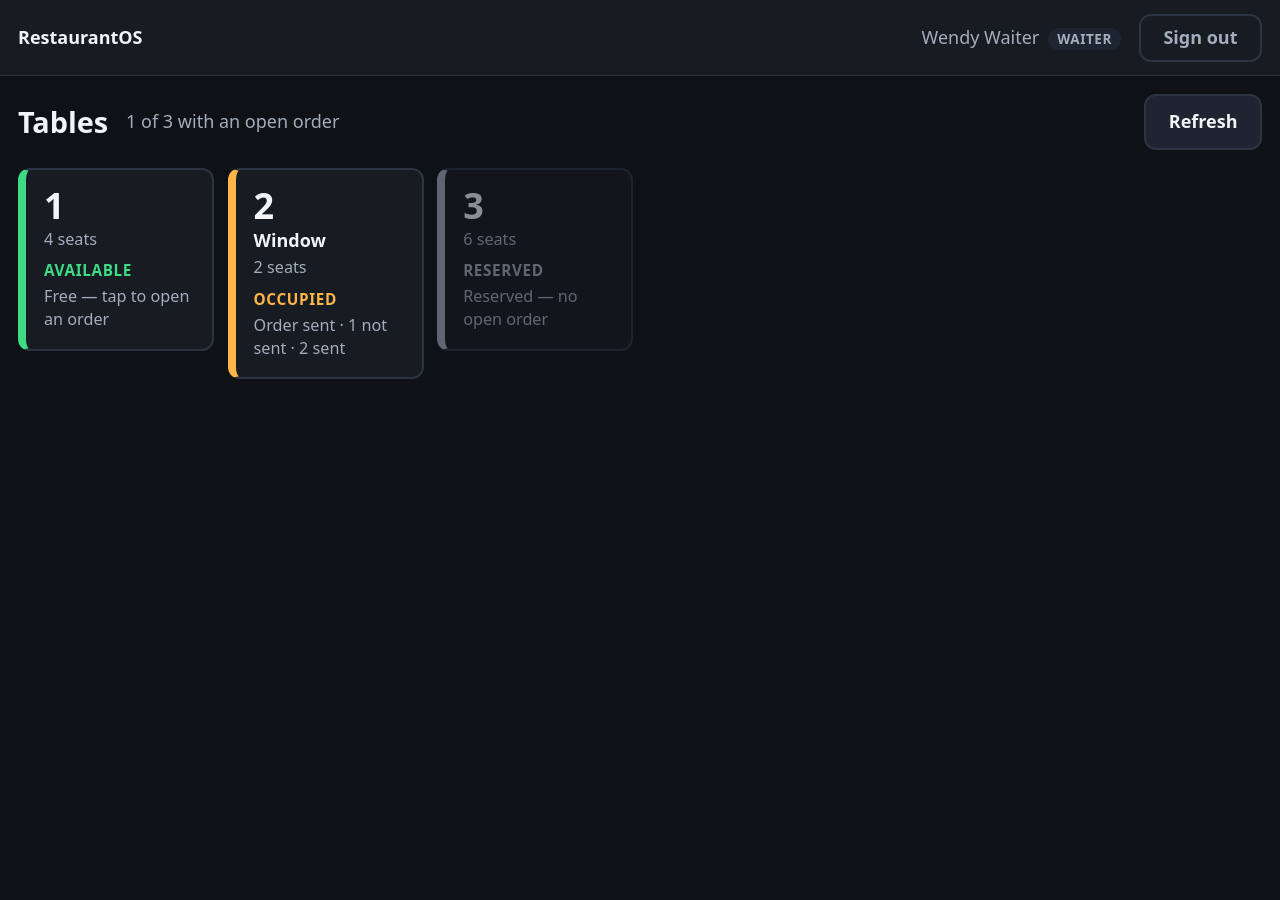
it: Tables › refreshes the tables when someone else opened the table meanwhile
Click the button with aria-label "Table 1:" at (116, 259), box [18,168,214,350]
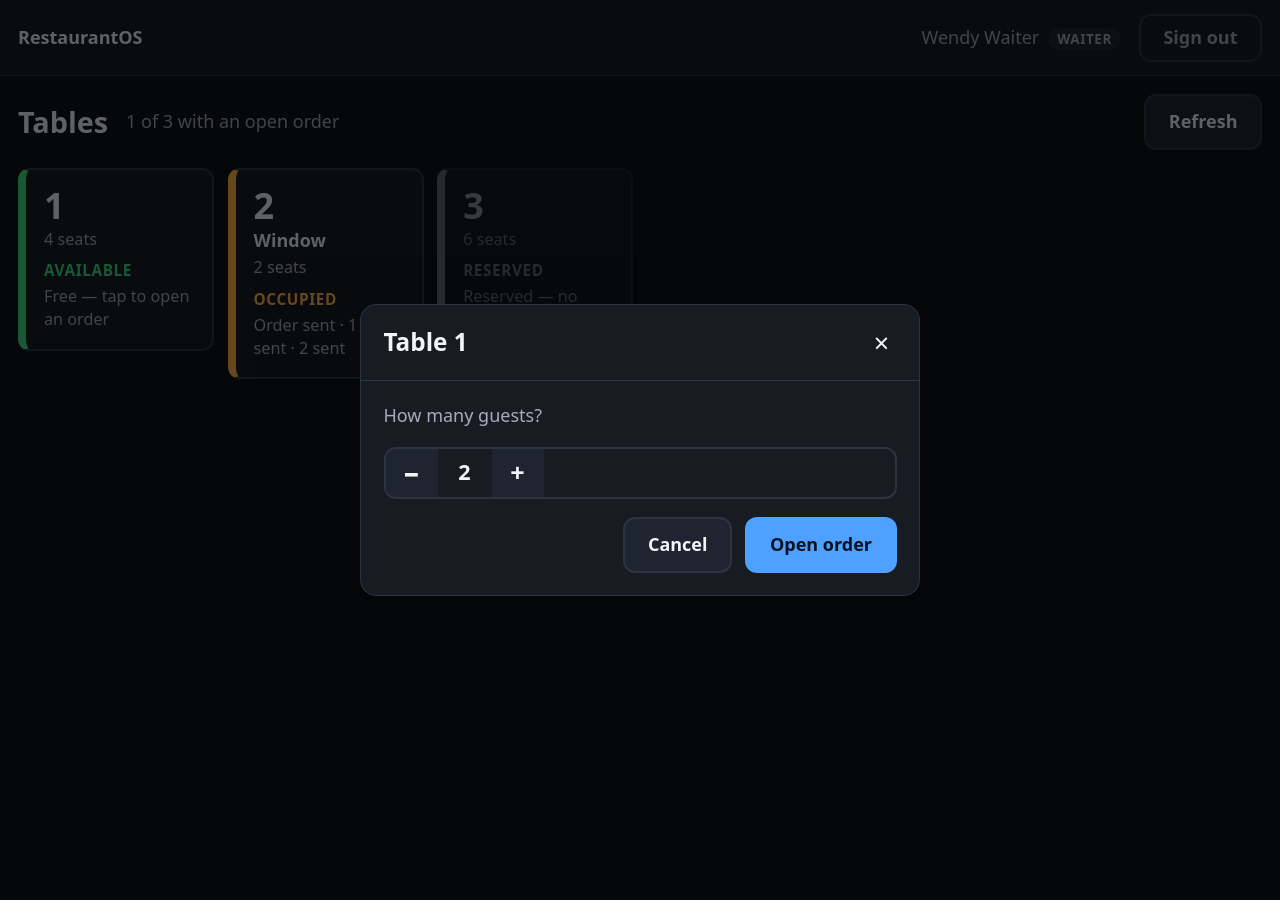
Click the button "Open order" at (821, 545), box [746,517,896,573]
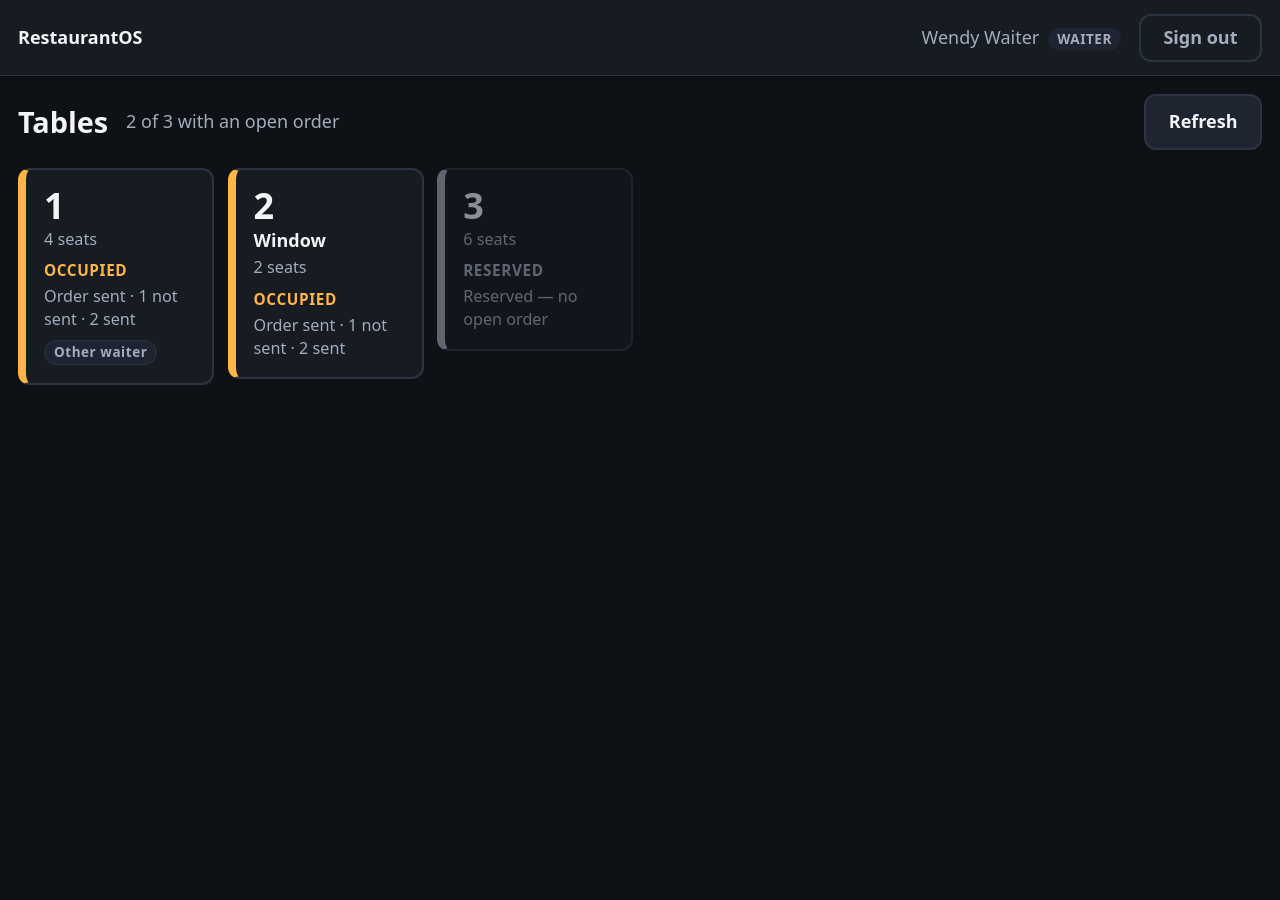
Check: the button with aria-label "Table 1: Order sent" is shown, box [18,168,214,385]
Check: the dialog is gone
Check: the text "Other waiter" is shown once, box [44,340,157,365]
